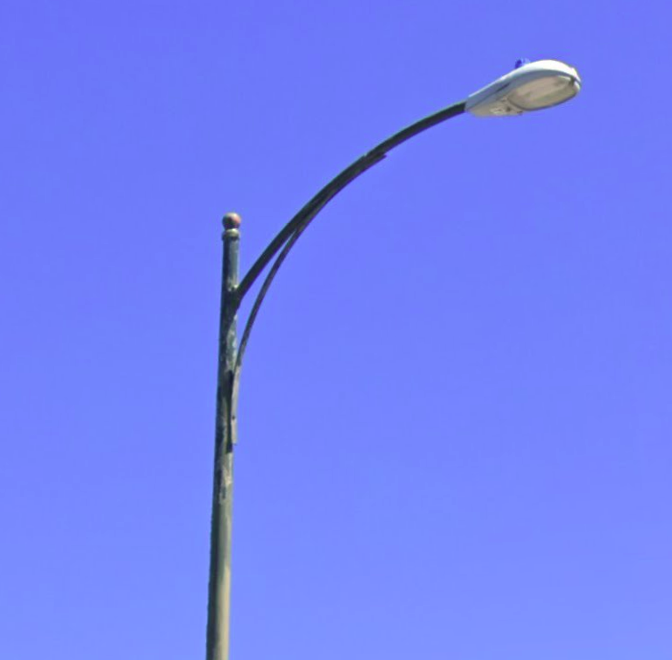pole: (187, 46, 591, 594)
